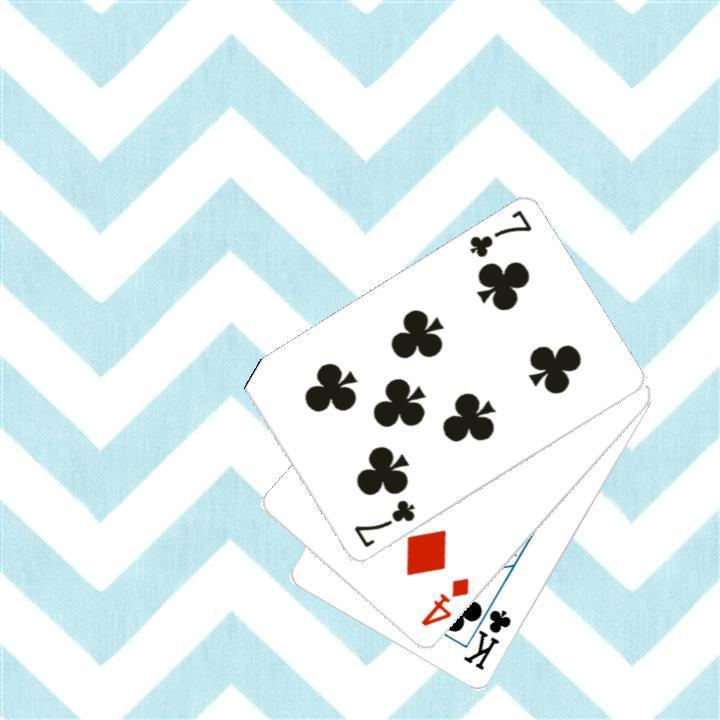4: (416, 574, 472, 629)
7: (464, 205, 534, 261), (349, 495, 417, 550)
K: (458, 592, 514, 673)
